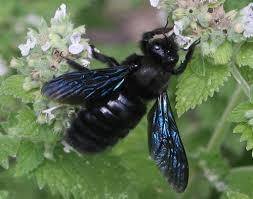Xylocopa: (44, 14, 211, 189)
